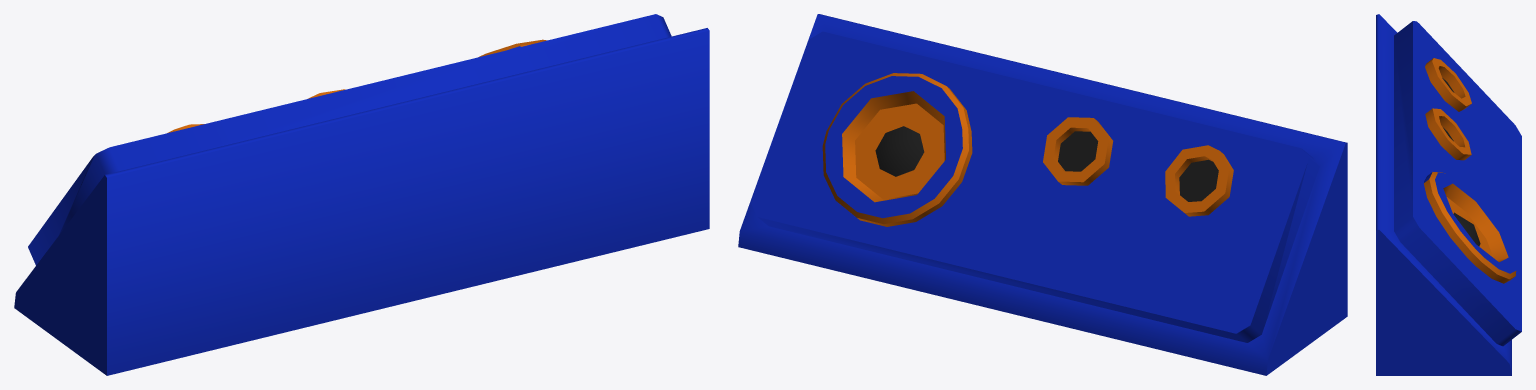
Rendered from sSpeaker.fbx.
3 views of the same model, side by side, from view 1: azimuth 30°, elevation 25°; view 2: azimuth 150°, elevation 25°; view 3: azimuth 270°, elevation 25° (orthographic). The views are drawn at different scales.
Visible parts, largest first — view 1: sSpeaker_l; view 2: sSpeaker_l; view 3: sSpeaker_l.
Part boxes in pixels (<box>): sSpeaker_l: <box>14,14,709,375</box>; sSpeaker_l: <box>738,14,1347,375</box>; sSpeaker_l: <box>1376,14,1521,375</box>.
Size of the model in its own units: 92.92 by 26.58 by 29.98.
